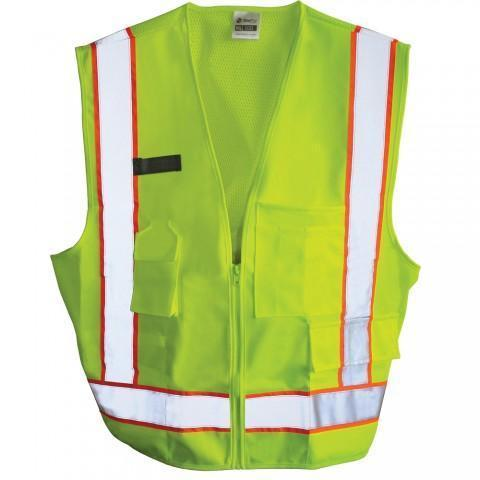vest: (45, 0, 419, 476)
